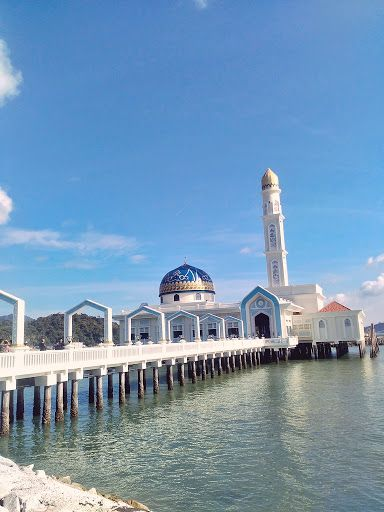Mosque: (109, 172, 366, 359)
